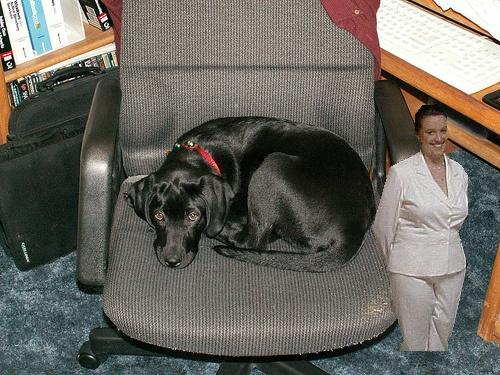tampered: (374, 105, 468, 351)
